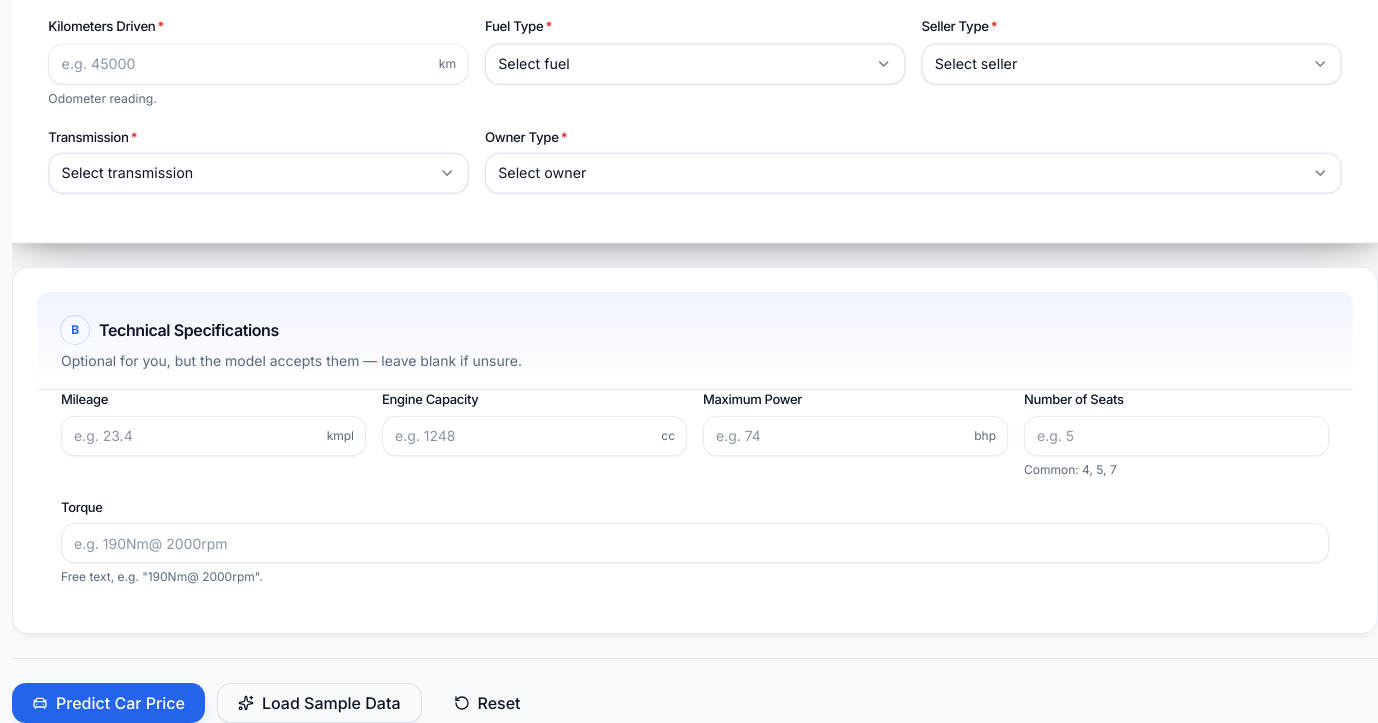
Test: form validation › rejects an empty form without calling the API
(page scrolled)
What coordinates should you click on to do the following:
click the button "Predict Car Price"
I would click on:
 (108, 703)
Its box is [12,683,205,722].
(page scrolled)
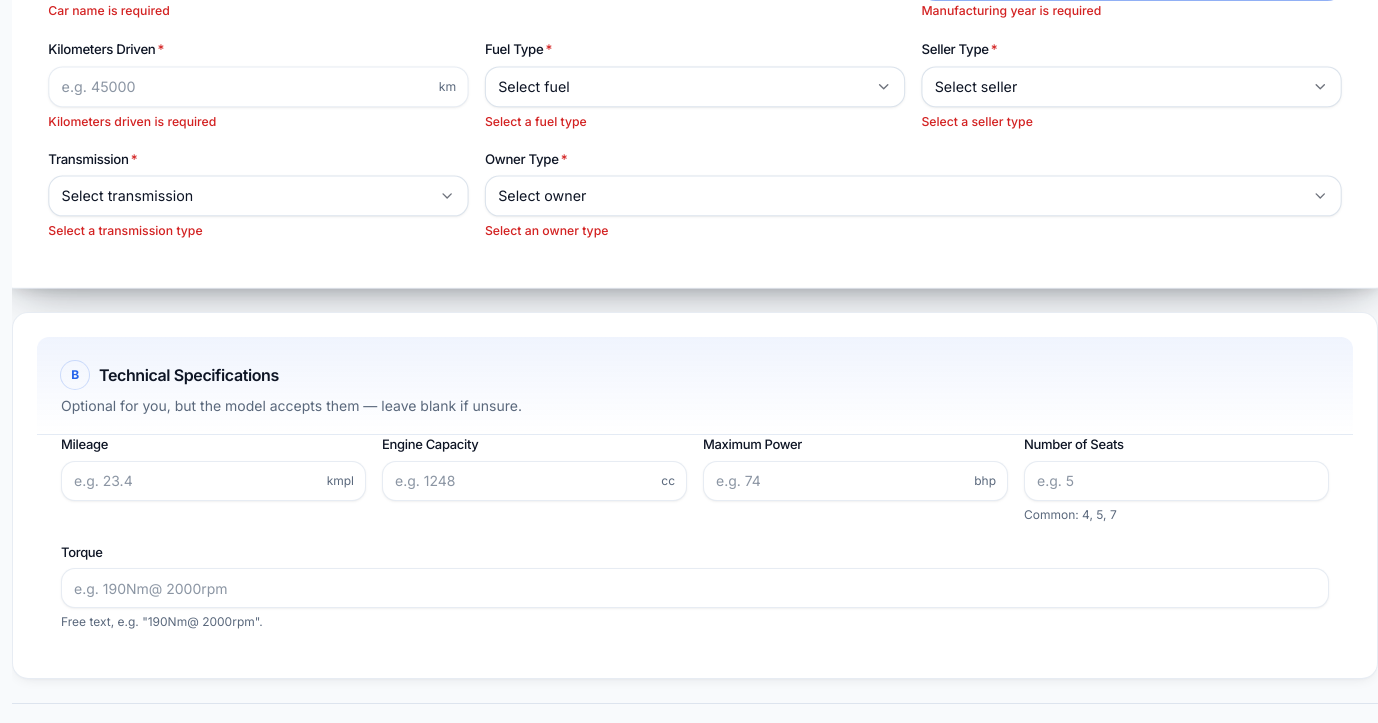
Check: the text "Car name is required" is shown, box [48,3,170,19]
Check: the text "Manufacturing year is required" is shown, box [921,3,1101,19]
Check: the text "Kilometers driven is required" is shown, box [48,113,216,128]
